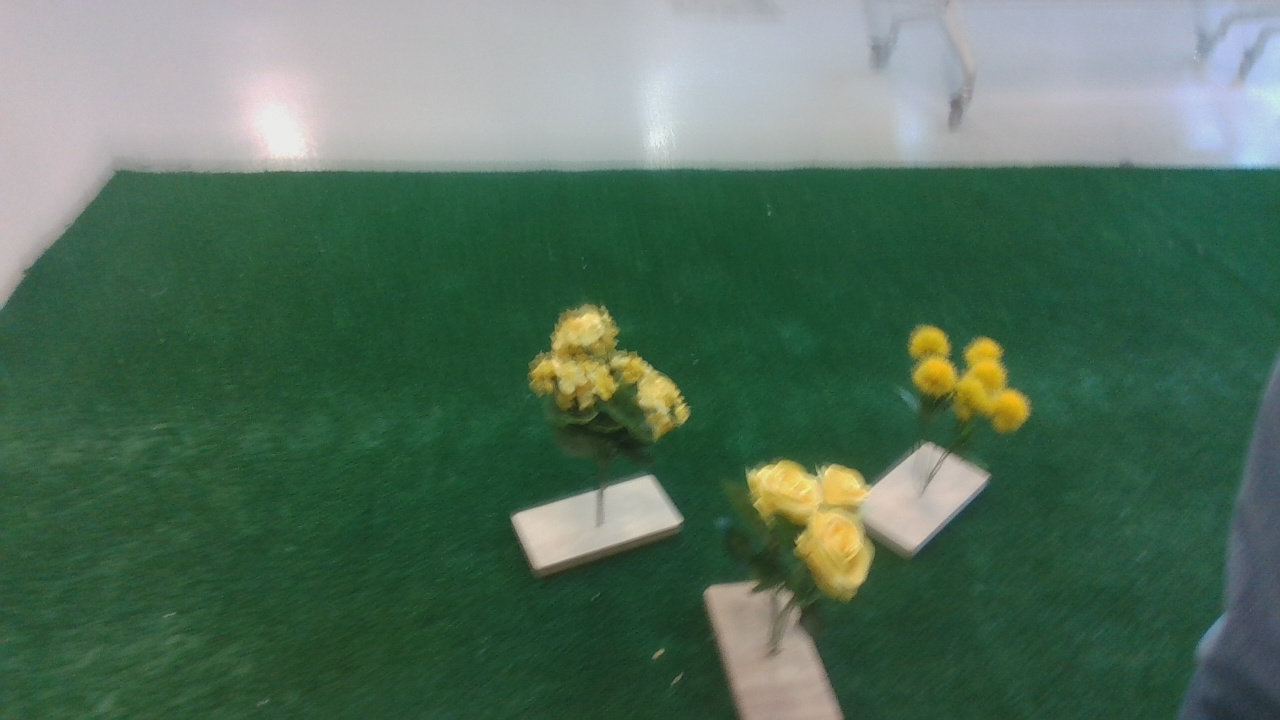dandelion: (889, 322, 1049, 451)
geranium: (514, 301, 701, 456)
rose: (712, 458, 887, 608)
